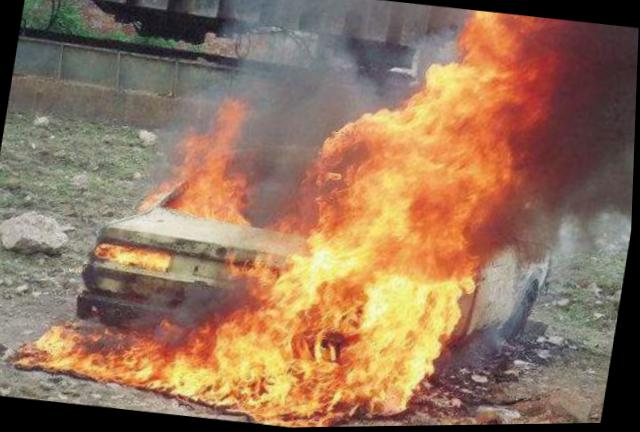fire: (15, 0, 574, 429)
